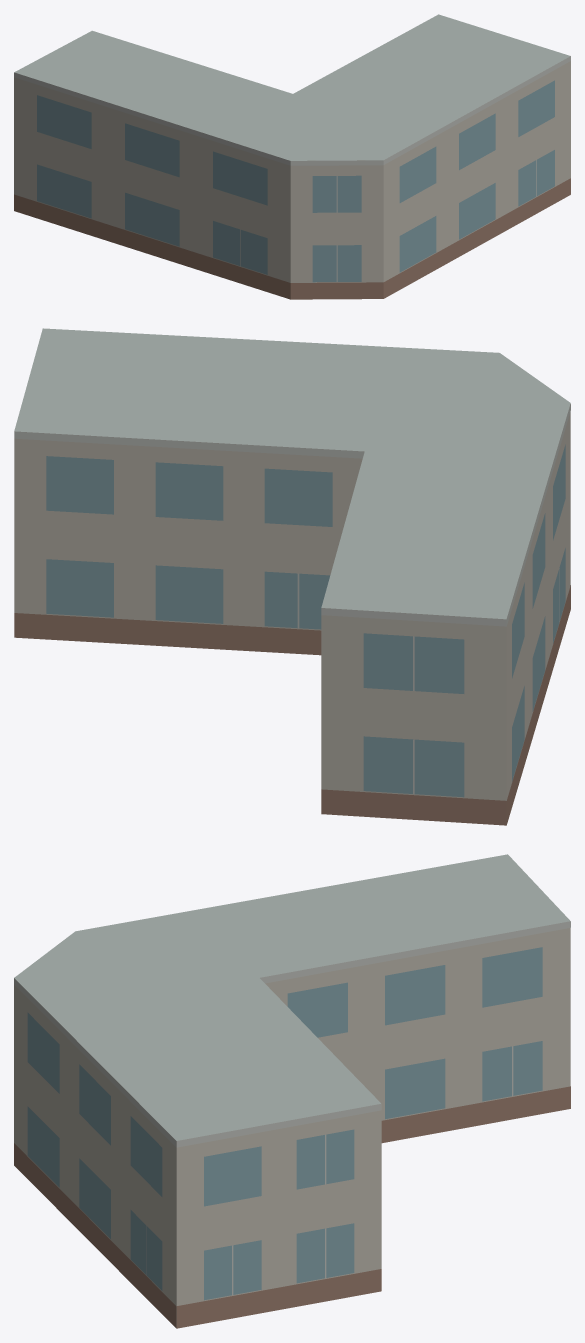
The model's file is survey-upis-32948507.glb.
3 views of the same model, one above another, from view 1: azimuth 30°, elevation 25°; view 2: azimuth 150°, elevation 25°; view 3: azimuth 270°, elevation 25° (orthographic). The views are drawn at different scales.
Parts seen in each view (by area): view 1: survey-upis-32948507.tmp; view 2: survey-upis-32948507.tmp; view 3: survey-upis-32948507.tmp.
Part boxes in pixels (x1,y1,x2,y2): survey-upis-32948507.tmp: [14, 14, 570, 299]; survey-upis-32948507.tmp: [14, 328, 570, 825]; survey-upis-32948507.tmp: [14, 854, 570, 1328].
Size of the model in its own units: 22.63 by 6.9 by 18.57.
